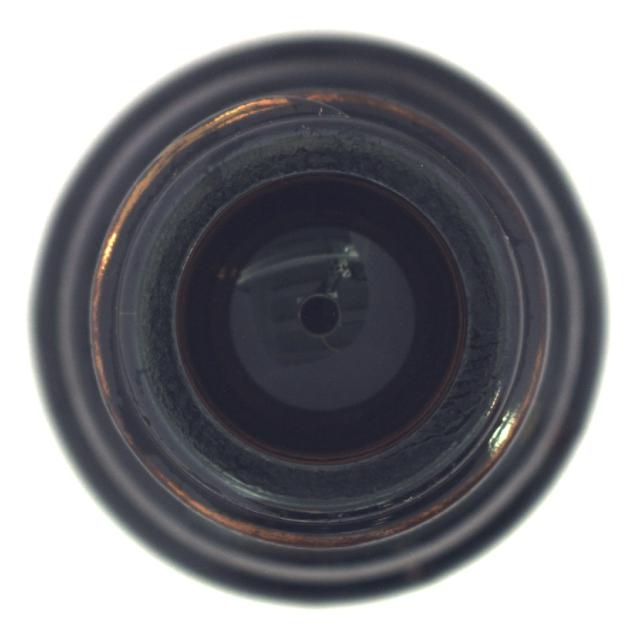bad-contamination: (26, 29, 611, 610)
